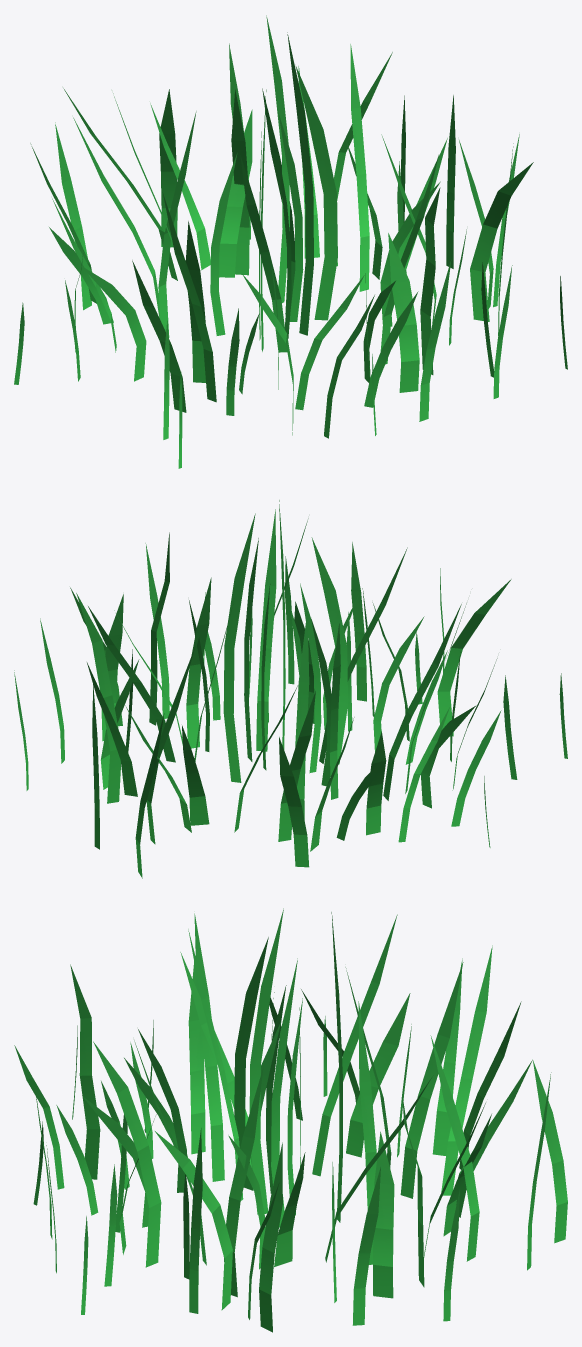
Rendered from SM_Grass01.fbx.
The picture shows the model from 3 angles, top to bottom: view 1: azimuth 30°, elevation 25°; view 2: azimuth 150°, elevation 25°; view 3: azimuth 270°, elevation 25°; orthographic projection. The views are drawn at different scales.
Visible parts, largest first — view 1: Plane.030; view 2: Plane.030; view 3: Plane.030.
Boxes of the visible parts, x1,y1,x2,y2 form: Plane.030: (14, 15, 567, 468); Plane.030: (14, 500, 567, 878); Plane.030: (14, 908, 567, 1332).
Size of the model in its own units: 9.42 by 6.1 by 9.15.
